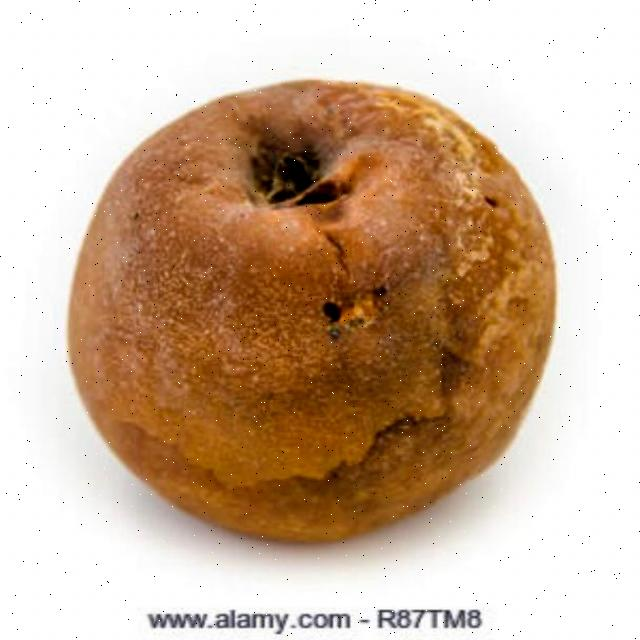ROT: (75, 66, 568, 578)
SCAB: (70, 67, 574, 581)
